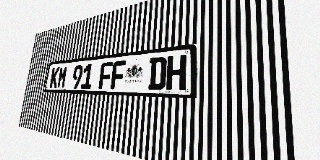1: (81, 63, 94, 89)
9: (71, 64, 84, 89)
D: (148, 56, 167, 90)
F: (110, 60, 126, 89), (98, 62, 113, 89)
H: (166, 54, 187, 90)
K: (49, 67, 60, 88)
M: (57, 66, 68, 88)
